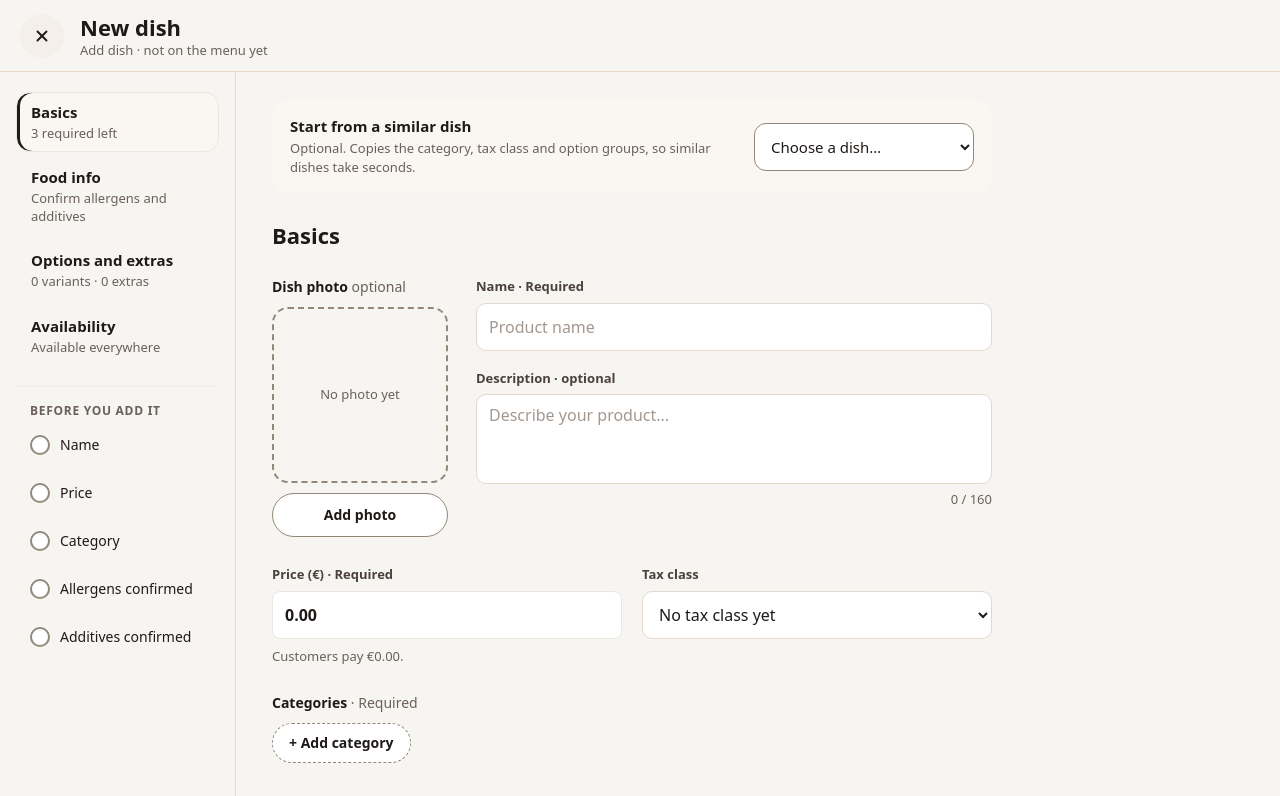
Test case: AddDishPanel language-agnostic name strings › a one-language shop never names a language for the name field, checklist row or error
Check: the field labelled "Name · Required" is shown, box [476, 302, 992, 350]
Check: the button with aria-label "Name — not done yet" is shown, box [16, 423, 219, 467]
Click the button "Availability Available everywhere". click: [118, 336]
box: [16, 306, 219, 366]
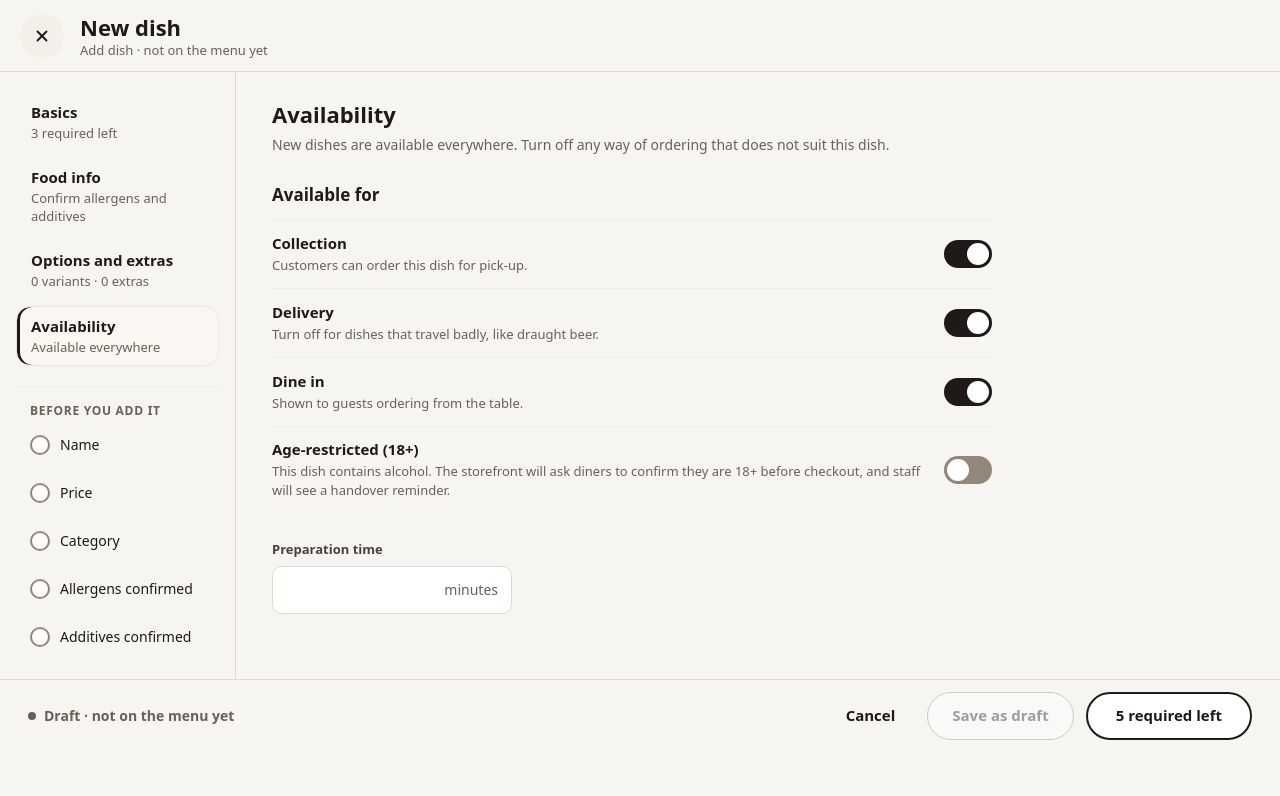
Click the button "5 required left". click: [1169, 716]
box: [1086, 692, 1252, 740]
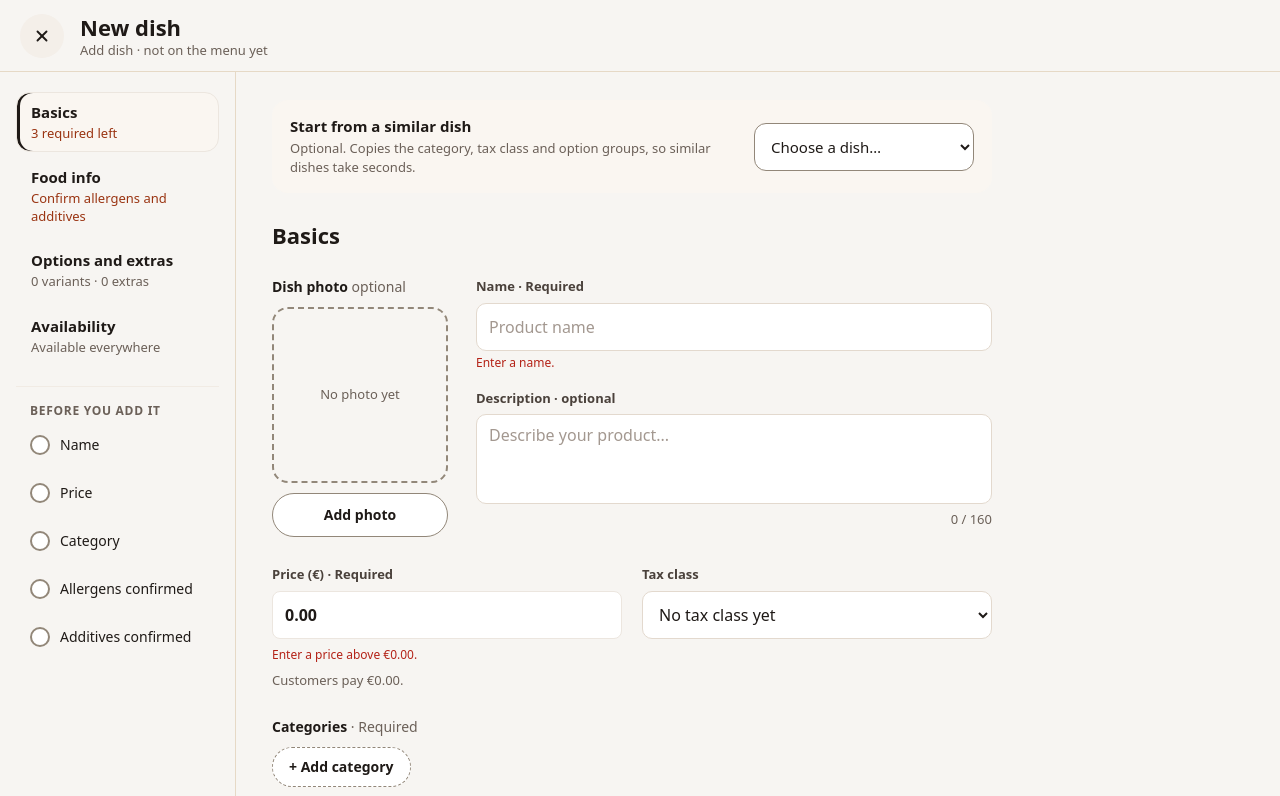
Check: the message "Enter a name." is shown, box [476, 354, 554, 370]
